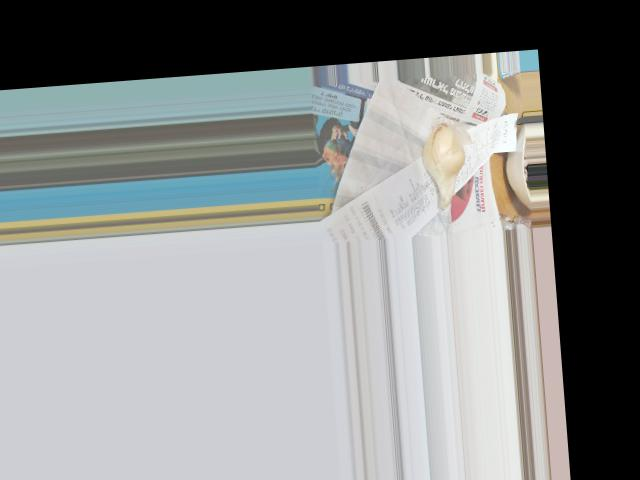onion: (422, 121, 466, 200)
